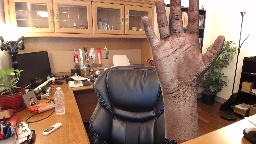Mano_aperta: (137, 0, 226, 97)
